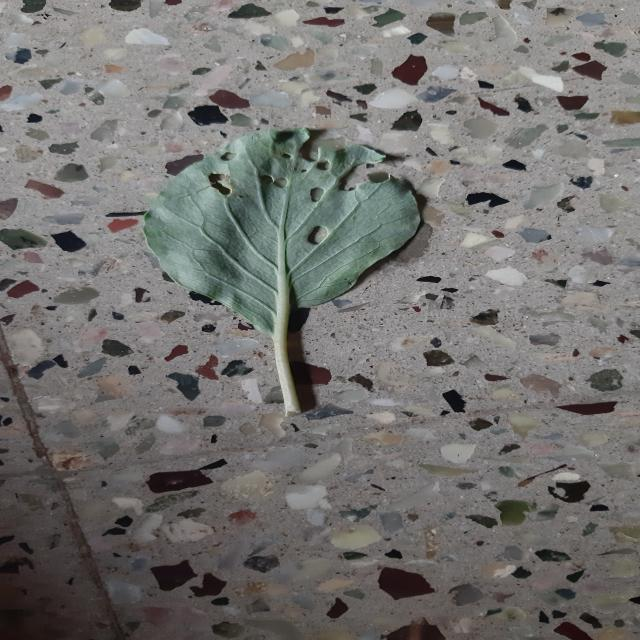Kohlrabi: (144, 129, 420, 415)
